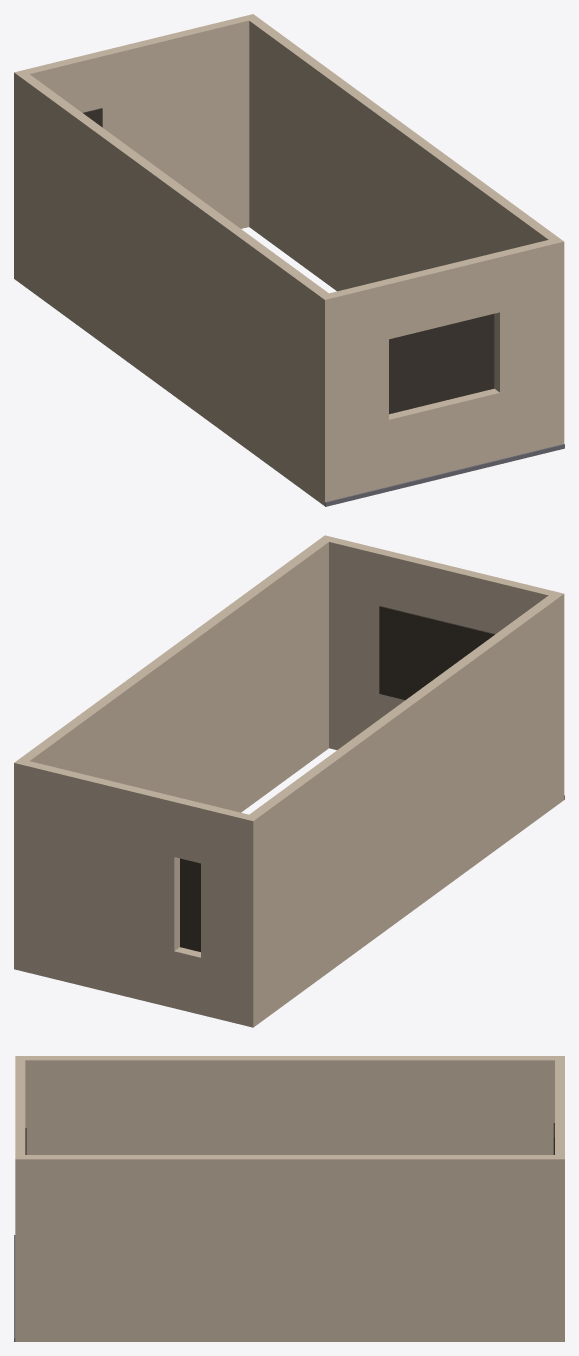
Rendered from SM_Floor_NarrowUpperWindow_Cream_364_Back_01.gltf.
3 views of the same model, one above another, from view 1: azimuth 30°, elevation 25°; view 2: azimuth 150°, elevation 25°; view 3: azimuth 270°, elevation 25° (orthographic). The views are drawn at different scales.
Parts seen in each view (by area): view 1: SM_Floor_NarrowUpperWindow_Cream_364_Back_01; view 2: SM_Floor_NarrowUpperWindow_Cream_364_Back_01; view 3: SM_Floor_NarrowUpperWindow_Cream_364_Back_01.
Part boxes in pixels (<box>): SM_Floor_NarrowUpperWindow_Cream_364_Back_01: <box>14,14,564,506</box>; SM_Floor_NarrowUpperWindow_Cream_364_Back_01: <box>14,535,564,1027</box>; SM_Floor_NarrowUpperWindow_Cream_364_Back_01: <box>14,1056,564,1341</box>.
Bounding box in the file's own units: 3.64 × 3 × 8.21.
Materials: 1 (1 with a texture image).
